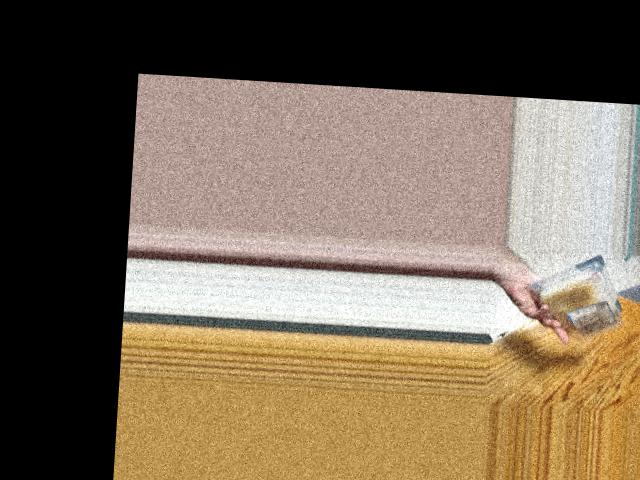cheese: (528, 258, 627, 328)
